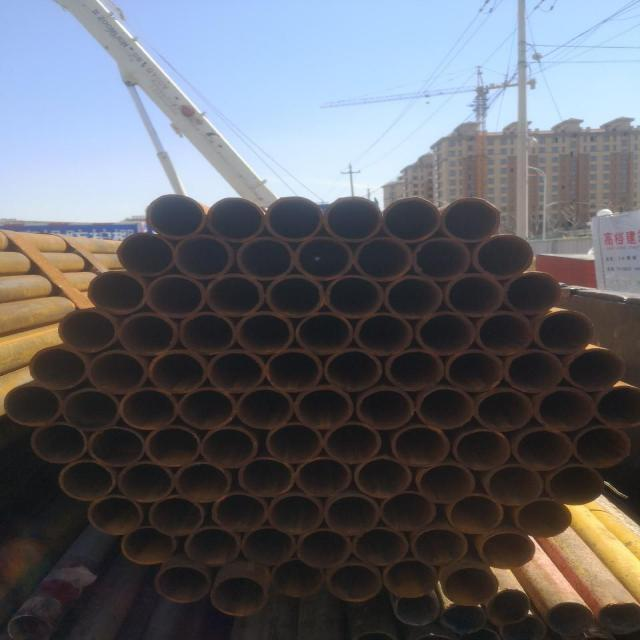pipe: (322, 195, 383, 242), (144, 192, 204, 238), (383, 274, 443, 320), (474, 310, 534, 356), (414, 311, 476, 355), (86, 350, 148, 394), (263, 196, 322, 242), (353, 236, 412, 282), (293, 236, 354, 280), (145, 274, 206, 318), (206, 196, 264, 242), (382, 196, 440, 242), (440, 198, 500, 242), (116, 232, 176, 276), (236, 236, 296, 280), (472, 234, 532, 278), (86, 270, 146, 314), (264, 274, 324, 318), (324, 274, 384, 318), (444, 273, 504, 317), (354, 312, 414, 356), (322, 348, 382, 392), (384, 348, 444, 392), (504, 348, 564, 392), (173, 234, 232, 278), (205, 272, 264, 316), (57, 308, 116, 352), (117, 312, 177, 355), (146, 350, 206, 393), (444, 349, 504, 392), (118, 386, 178, 429), (176, 386, 236, 429), (512, 426, 572, 469), (264, 348, 322, 392), (235, 311, 294, 354), (28, 346, 87, 389), (61, 388, 120, 431), (564, 348, 624, 390), (294, 386, 354, 428), (473, 389, 533, 431), (534, 388, 594, 430), (178, 311, 235, 355), (536, 309, 593, 353), (412, 237, 470, 280), (503, 271, 561, 314), (415, 386, 473, 429), (572, 425, 629, 468), (294, 312, 352, 354), (4, 384, 62, 426), (236, 386, 294, 428), (355, 388, 413, 430), (29, 421, 87, 463), (200, 426, 258, 468), (322, 421, 380, 463), (391, 424, 449, 466), (452, 428, 510, 470), (352, 456, 410, 498), (146, 494, 204, 536), (207, 350, 264, 392), (264, 422, 322, 463), (266, 493, 324, 534), (118, 460, 174, 502), (323, 494, 379, 536), (144, 425, 201, 466), (86, 426, 144, 466), (294, 456, 352, 496), (416, 463, 474, 503), (514, 497, 572, 537), (324, 562, 382, 602), (447, 492, 502, 534), (486, 465, 543, 505), (351, 526, 408, 566), (548, 464, 602, 506), (58, 460, 114, 500), (174, 462, 230, 502), (86, 495, 142, 535), (210, 492, 266, 532), (378, 490, 434, 530), (240, 526, 296, 566), (210, 576, 266, 616), (382, 558, 438, 598), (237, 457, 294, 496), (184, 526, 238, 567), (409, 528, 467, 566), (295, 528, 350, 568), (269, 557, 324, 596), (120, 526, 176, 564), (154, 565, 211, 602), (442, 567, 497, 605), (479, 532, 534, 568), (594, 386, 640, 428), (486, 588, 529, 626), (546, 601, 592, 635), (438, 603, 486, 633), (498, 612, 546, 640), (598, 602, 640, 634), (394, 594, 437, 625), (5, 614, 50, 640)
